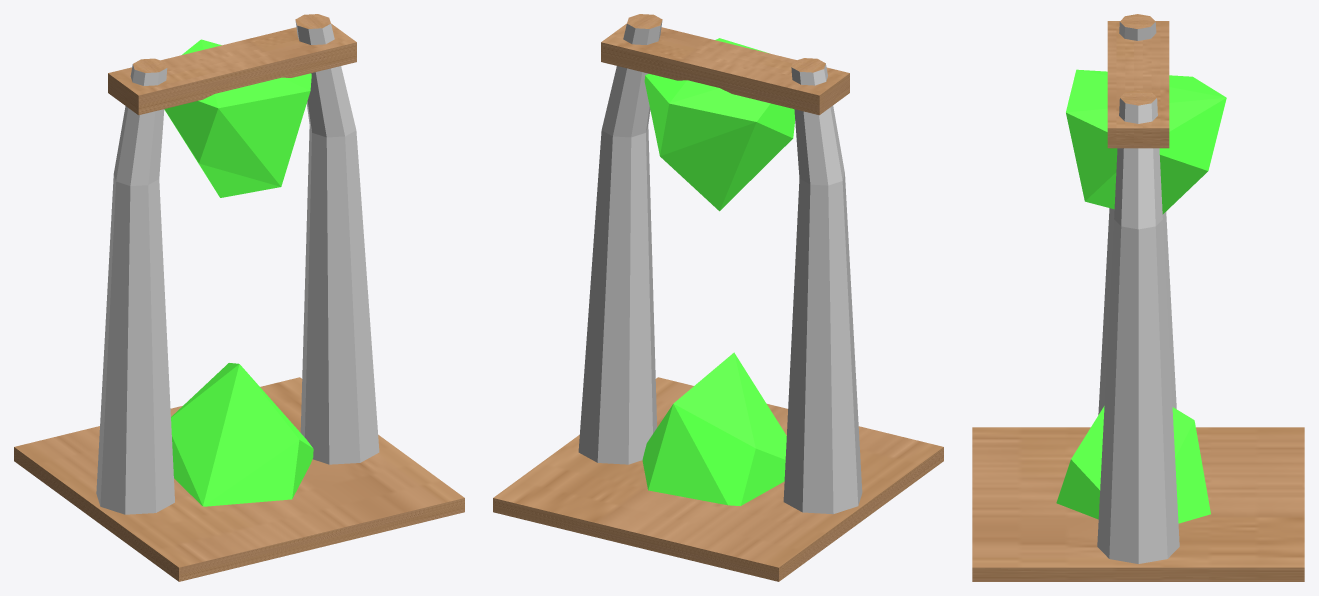
The model's file is Crystalliser.fbx.
3 renders of one model, left to right at view 1: azimuth 30°, elevation 25°; view 2: azimuth 150°, elevation 25°; view 3: azimuth 270°, elevation 25°, orthographic.
Parts seen in each view (by area): view 1: Cube, Icosphere, Icosphere.001; view 2: Cube, Icosphere, Icosphere.001; view 3: Cube, Icosphere.001, Icosphere.
Boxes of the visible parts, x1,y1,x2,y2 form: Cube: (14, 14, 464, 581); Icosphere: (171, 363, 313, 506); Icosphere.001: (164, 39, 311, 197); Cube: (493, 14, 943, 581); Icosphere: (642, 352, 786, 505); Icosphere.001: (644, 38, 795, 211); Cube: (972, 14, 1304, 581); Icosphere.001: (1066, 69, 1226, 214); Icosphere: (1056, 406, 1210, 523).
Size of the model in its own units: 400 by 598 by 400.
